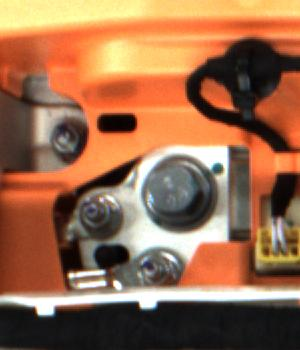nut_b: (138, 149, 222, 233)
screw_s: (134, 248, 177, 286), (81, 192, 116, 234), (49, 118, 82, 158)
